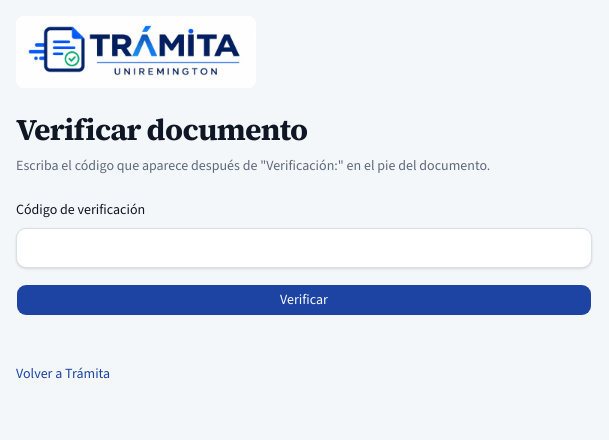
Test case: VerifySealPage › si la consulta falla muestra el error de la API y no afirma que el documento no existe
In the field labelled "Código de verificación": (304, 248) top-left (16, 228), bottom-right (592, 268), type "ABC123"
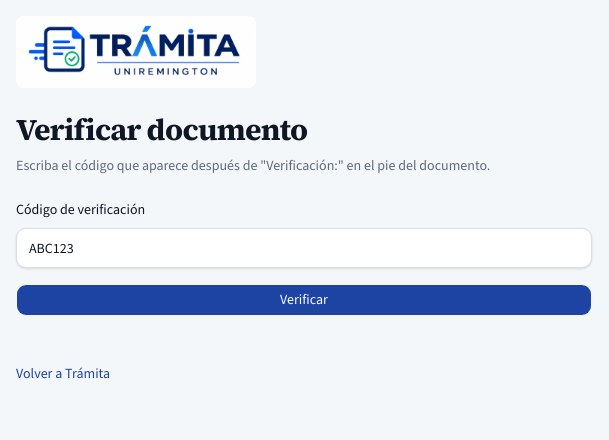
Click the button "Verificar": (304, 300) top-left (16, 284), bottom-right (592, 316)
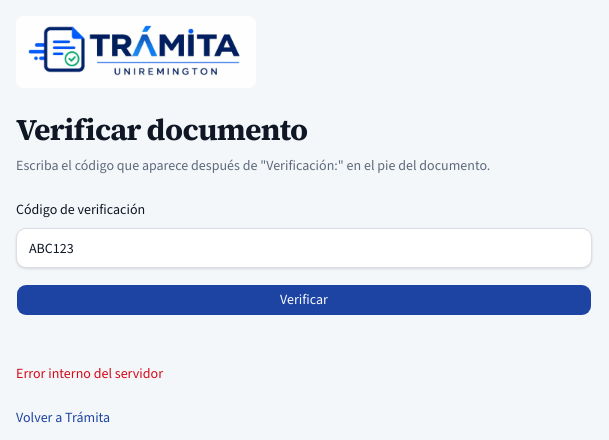
Expected: the text "Error interno del servidor" is shown, top-left (16, 364), bottom-right (163, 383)
